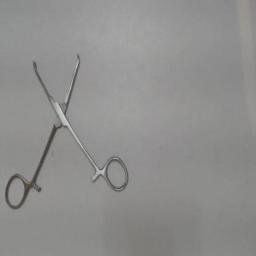Allis Tissue Forceps: (2, 50, 132, 212)
